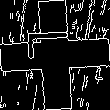L_E: (29, 38, 81, 72)
